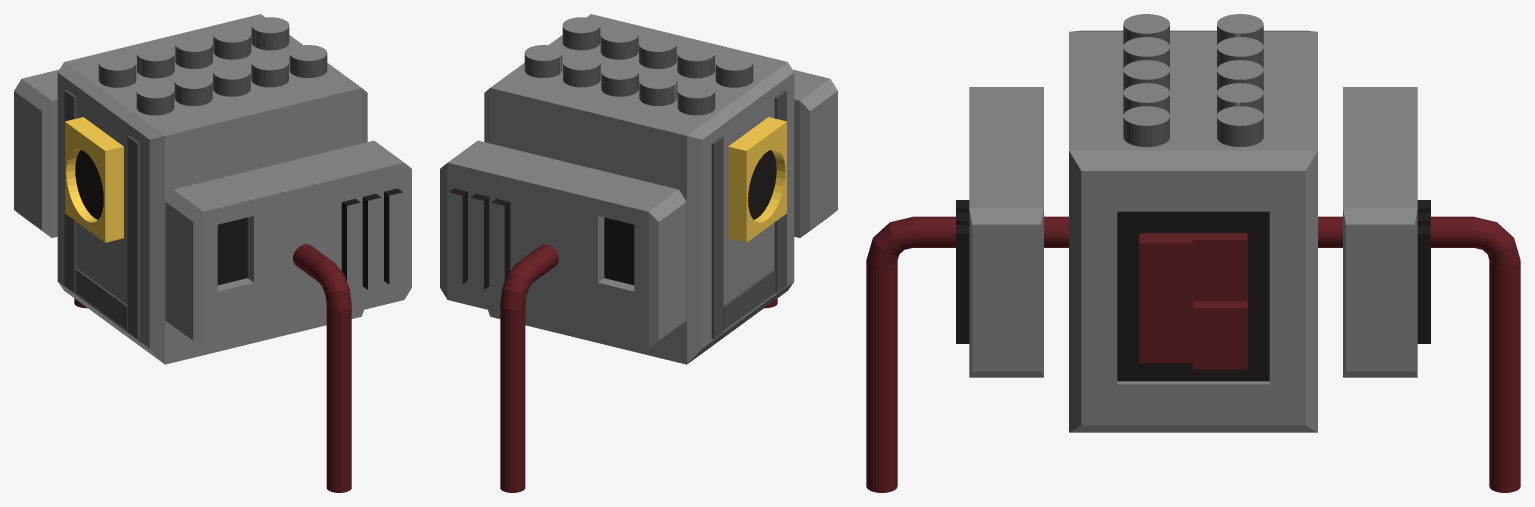
File: AirConditioner.fbx
3 views of the same model, side by side, from view 1: azimuth 30°, elevation 25°; view 2: azimuth 150°, elevation 25°; view 3: azimuth 270°, elevation 25° (orthographic). The views are drawn at different scales.
Parts seen in each view (by area): view 1: MainBody, SideBody.002, Cylinder.002, SideBody.001; view 2: MainBody, SideBody.001, Cylinder.002, SideBody.002; view 3: MainBody, SideBody.001, SideBody.002, Cylinder.002.
Part boxes in pixels (x1=…): MainBody: x1=57, y1=14, x2=367, y2=364; SideBody.002: x1=165, y1=140, x2=411, y2=348; Cylinder.002: x1=74, y1=244, x2=351, y2=492; SideBody.001: x1=14, y1=69, x2=58, y2=237; MainBody: x1=484, y1=14, x2=794, y2=364; SideBody.001: x1=440, y1=140, x2=686, y2=348; Cylinder.002: x1=500, y1=244, x2=777, y2=492; SideBody.002: x1=793, y1=69, x2=837, y2=237; MainBody: x1=1069, y1=14, x2=1317, y2=432; SideBody.001: x1=1343, y1=87, x2=1430, y2=377; SideBody.002: x1=956, y1=87, x2=1043, y2=377; Cylinder.002: x1=866, y1=216, x2=1520, y2=492.
Bounding box in the file's own units: 2.32 × 2.95 × 4.2.
